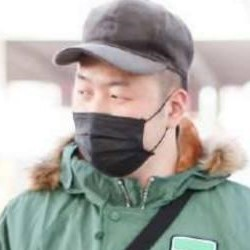mask: (62, 96, 164, 182)
